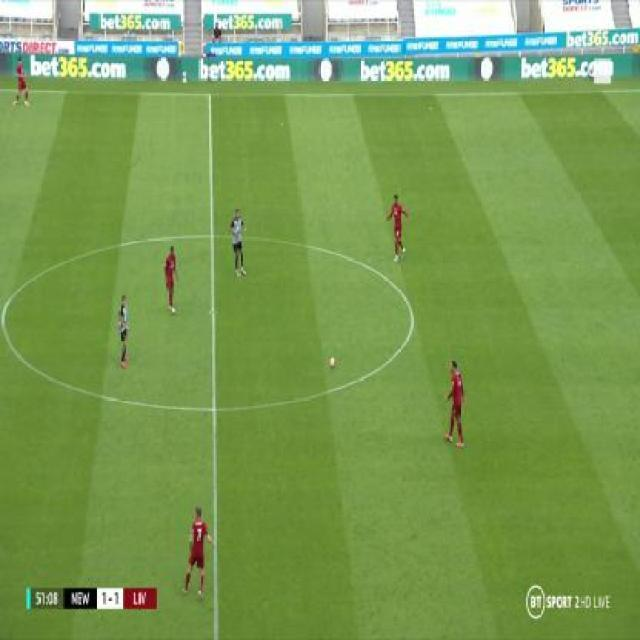ball: (329, 354, 337, 368)
player: (181, 505, 214, 604), (442, 357, 468, 450), (384, 194, 412, 263), (226, 206, 249, 277), (116, 291, 133, 368), (163, 243, 180, 314), (12, 52, 31, 111)
